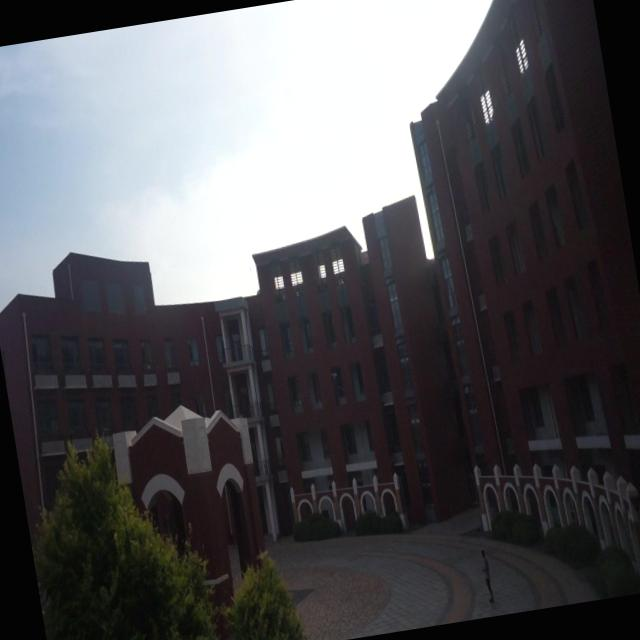drone: (330, 367, 340, 382)
